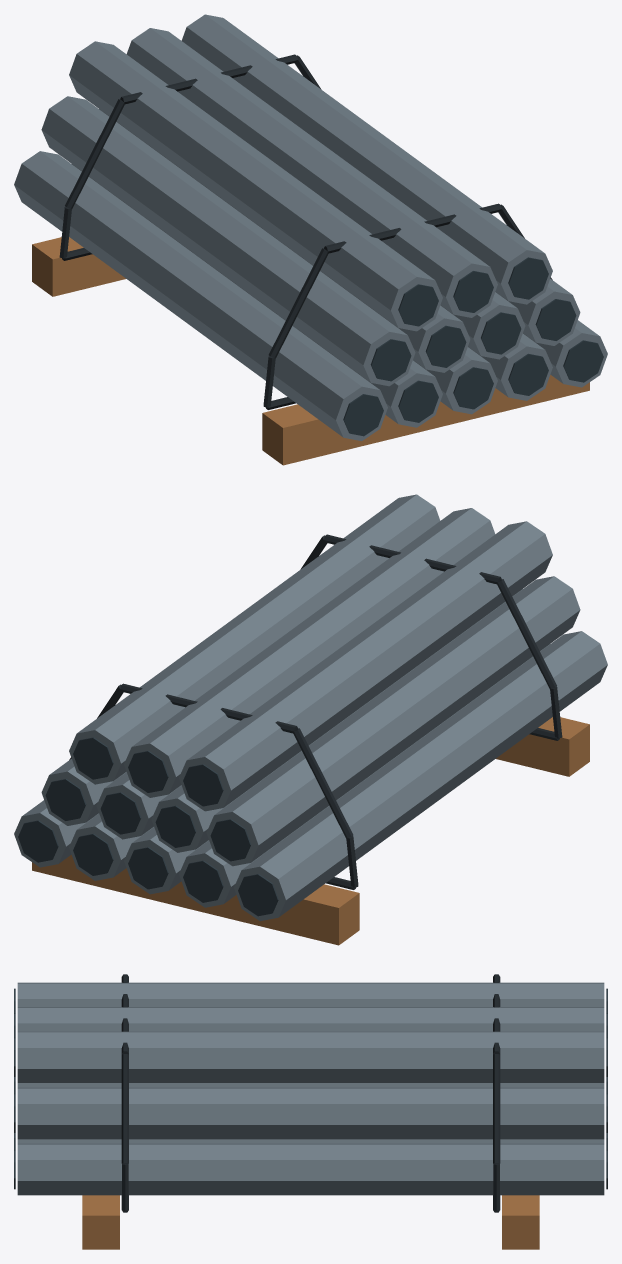
Rendered from b14_skidded_steel_pipe_bundle.glb.
The picture shows the model from 3 angles, top to bottom: view 1: azimuth 30°, elevation 25°; view 2: azimuth 150°, elevation 25°; view 3: azimuth 270°, elevation 25°; orthographic projection. The views are drawn at different scales.
Visible parts, largest first — view 1: b14_skidded_steel_pipe_bundle; view 2: b14_skidded_steel_pipe_bundle; view 3: b14_skidded_steel_pipe_bundle.
Part boxes in pixels (bbox=[...]): b14_skidded_steel_pipe_bundle: bbox=[14, 14, 607, 465]; b14_skidded_steel_pipe_bundle: bbox=[14, 494, 607, 945]; b14_skidded_steel_pipe_bundle: bbox=[14, 974, 607, 1249].
Bounding box in the file's own units: 1.2 × 0.712 × 2.21.
